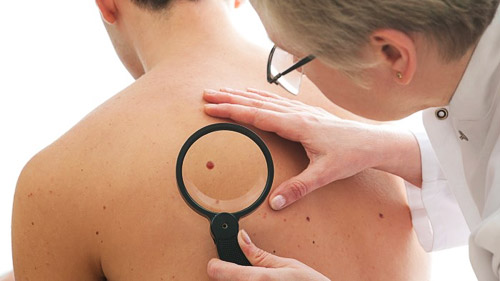mole: (200, 156, 218, 172), (374, 210, 388, 224), (90, 226, 103, 238), (99, 201, 110, 212), (308, 236, 318, 247), (303, 213, 313, 223)
